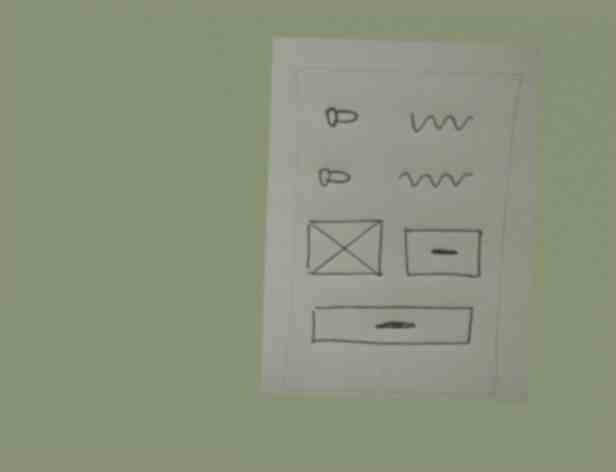button: (305, 301, 478, 358), (399, 223, 490, 285)
image: (302, 214, 388, 285)
switch: (320, 100, 364, 137), (313, 160, 356, 196)
text: (392, 163, 476, 199), (403, 105, 479, 139)
